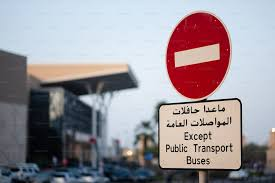No entry: (165, 11, 231, 99)
